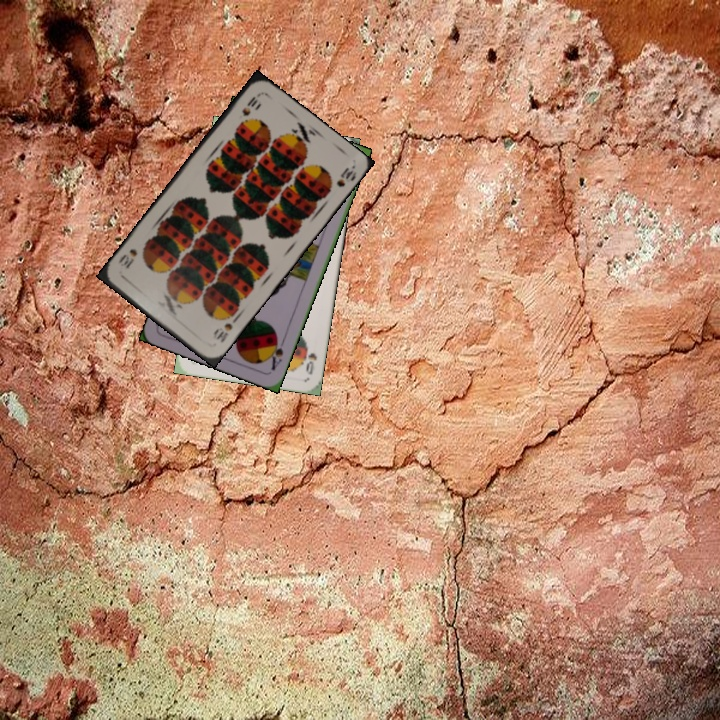S10: (212, 313, 240, 345), (238, 92, 260, 119)
SA: (265, 332, 288, 373)
SO: (301, 343, 319, 377)
